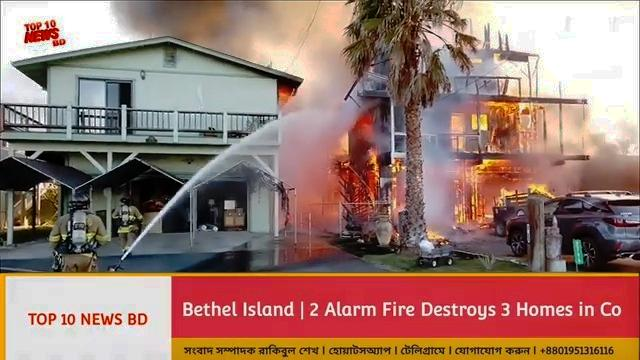fire: (484, 98, 522, 126)
